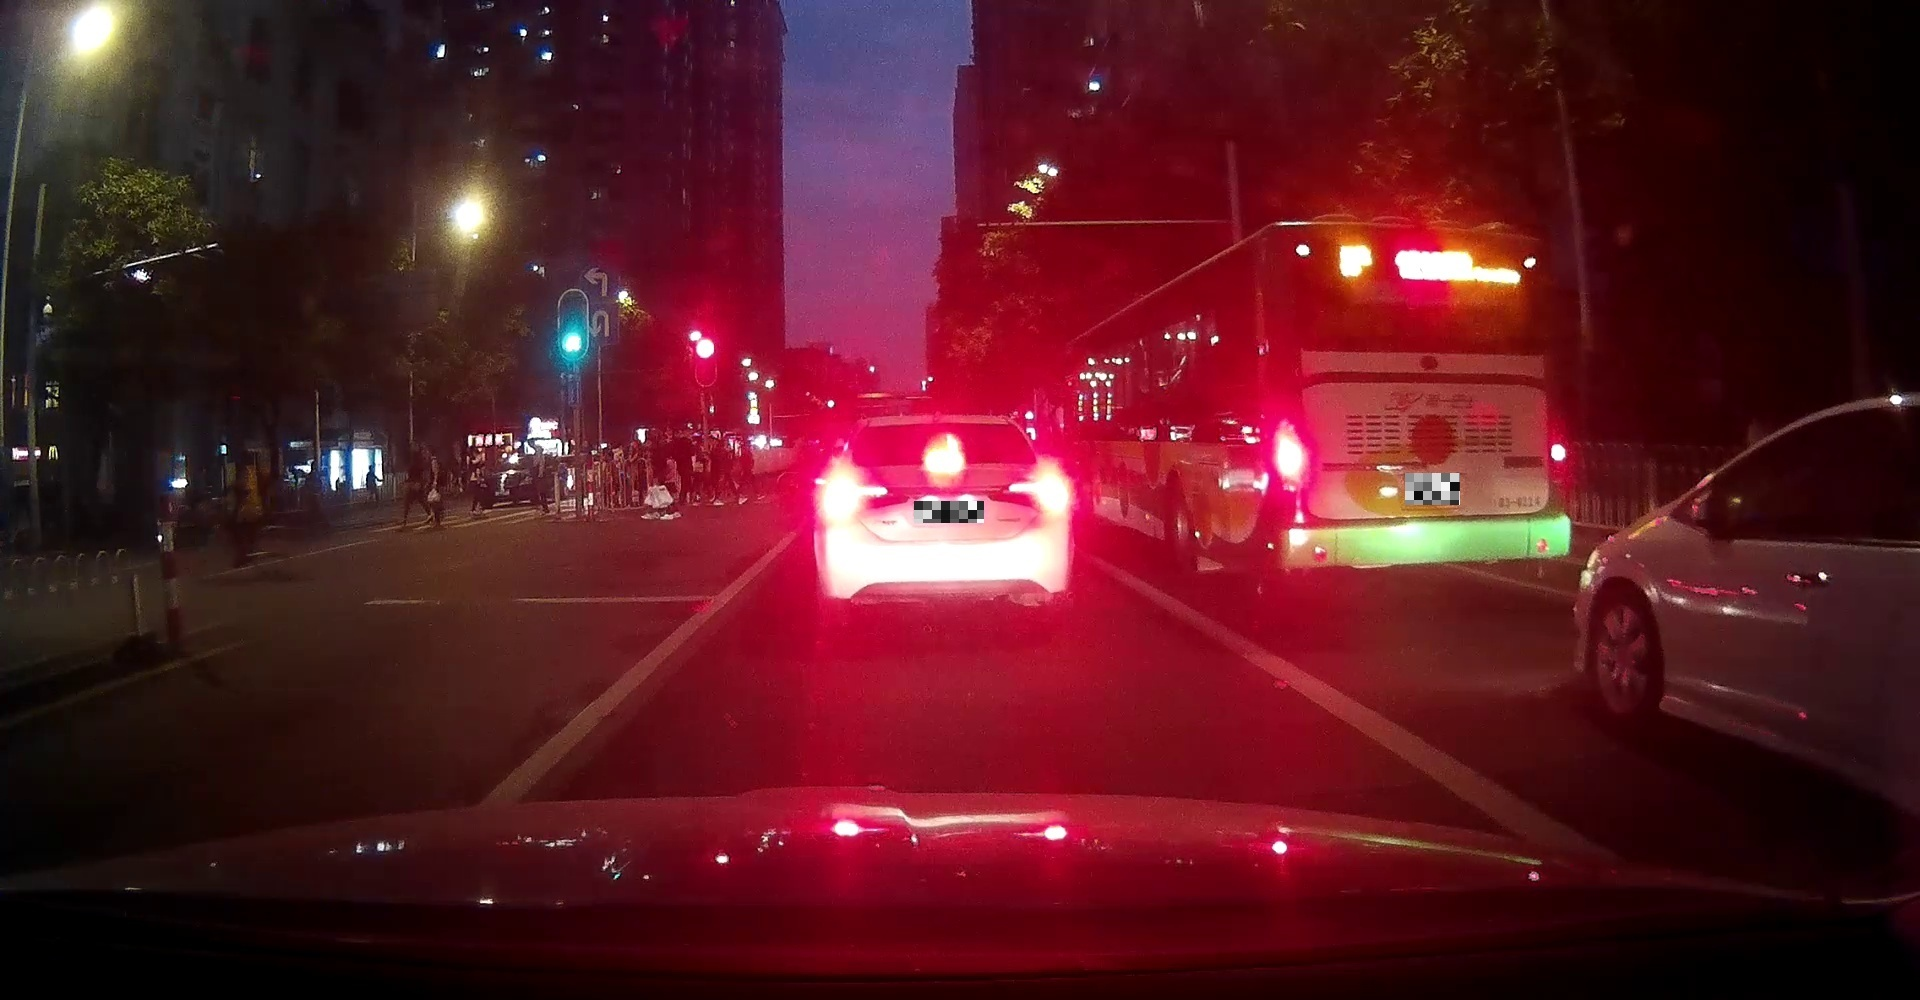L_light: (822, 466, 888, 520), (1274, 426, 1308, 487)
R_light: (1008, 466, 1072, 514), (1550, 425, 1570, 484)
T_light: (922, 434, 965, 475), (1397, 235, 1446, 250)
night-brake: (811, 414, 1074, 624)
night-left: (1274, 220, 1570, 602)
plate_1: (914, 501, 984, 523)
plate_2: (1404, 473, 1460, 505)
